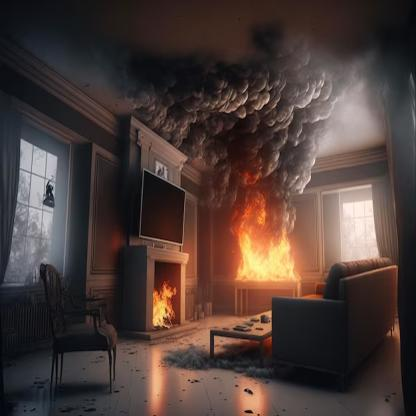fire: (235, 216, 296, 286), (146, 274, 178, 331)
smoke: (57, 0, 412, 228)
